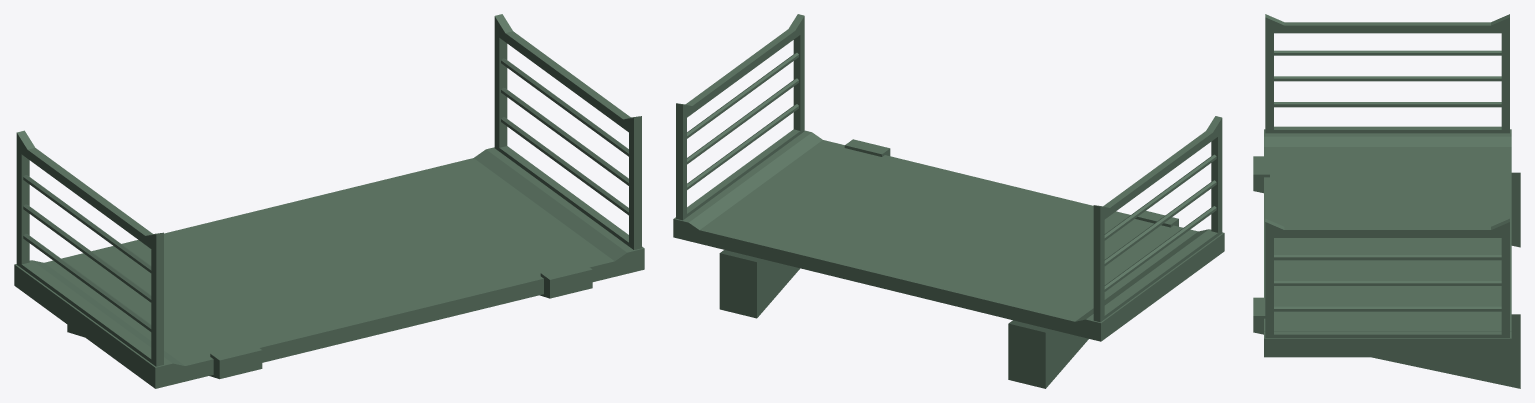
The model's file is Cube_121_geometry-panic-factory.fbx.
The picture shows the model from 3 angles, left to right: view 1: azimuth 30°, elevation 25°; view 2: azimuth 150°, elevation 25°; view 3: azimuth 270°, elevation 25°; orthographic projection. The views are drawn at different scales.
Parts seen in each view (by area): view 1: Cube.121.geometry-panic-factory; view 2: Cube.121.geometry-panic-factory; view 3: Cube.121.geometry-panic-factory.
Part boxes in pixels (left/top/right/bottom): Cube.121.geometry-panic-factory: left=14, top=14, right=644, bottom=388; Cube.121.geometry-panic-factory: left=673, top=14, right=1224, bottom=388; Cube.121.geometry-panic-factory: left=1253, top=14, right=1520, bottom=388.
Size of the model in its own units: 2 by 0.8509 by 1.08.
